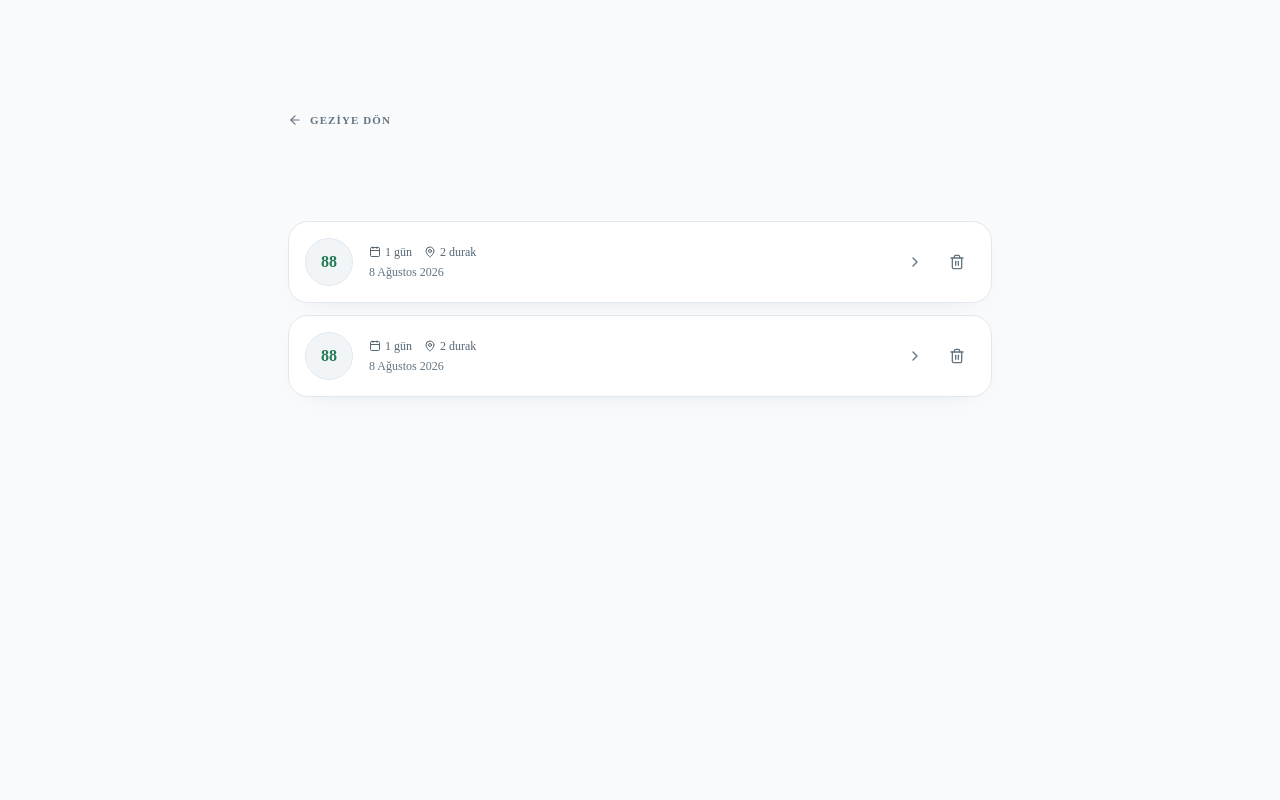
ItineraryHistoryPage › requires confirmation before deleting, then removes only that row locally
Click the 1st button named "İtinerary'i sil": [957, 262] box [939,244,975,280]
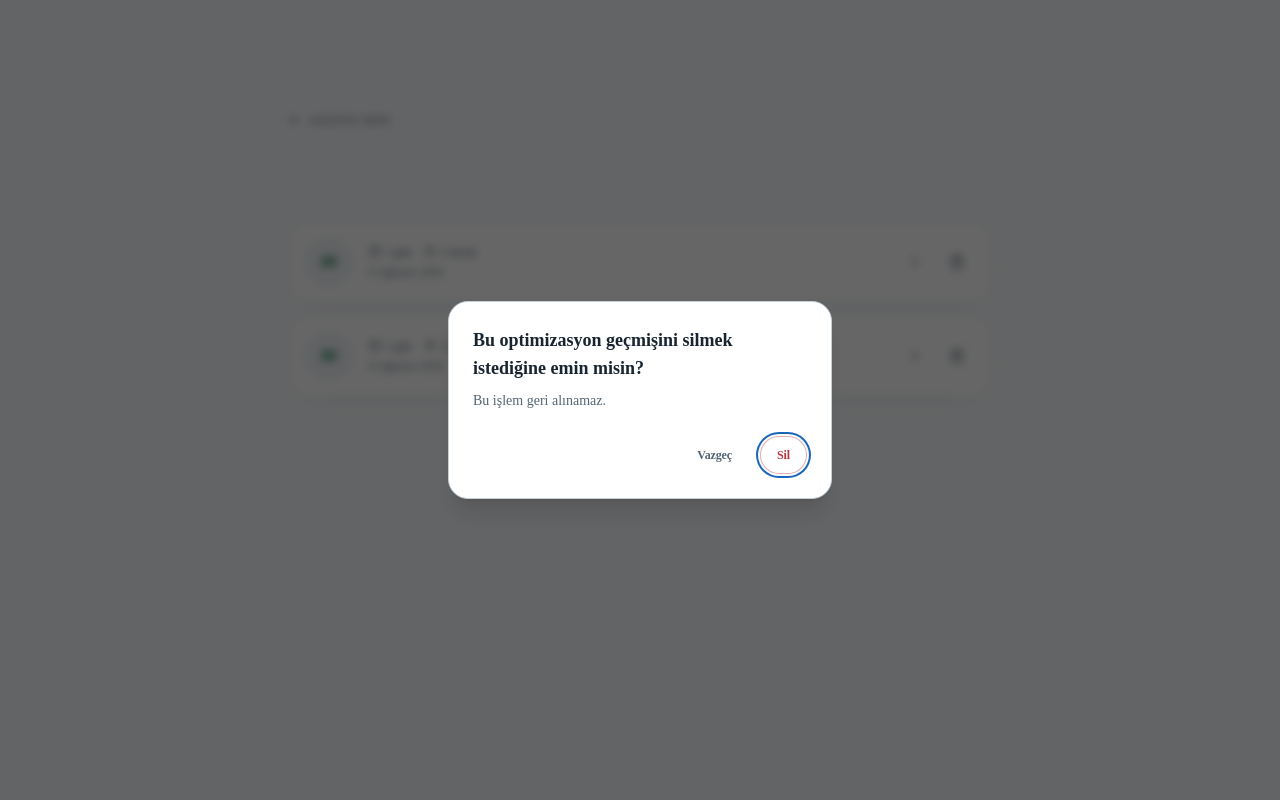
Check: the heading "Bu optimizasyon geçmişini silmek istediğine emin misin?" is shown, box [473,330,732,378]
Click the button "Sil": [784, 455] box [760,436,807,474]
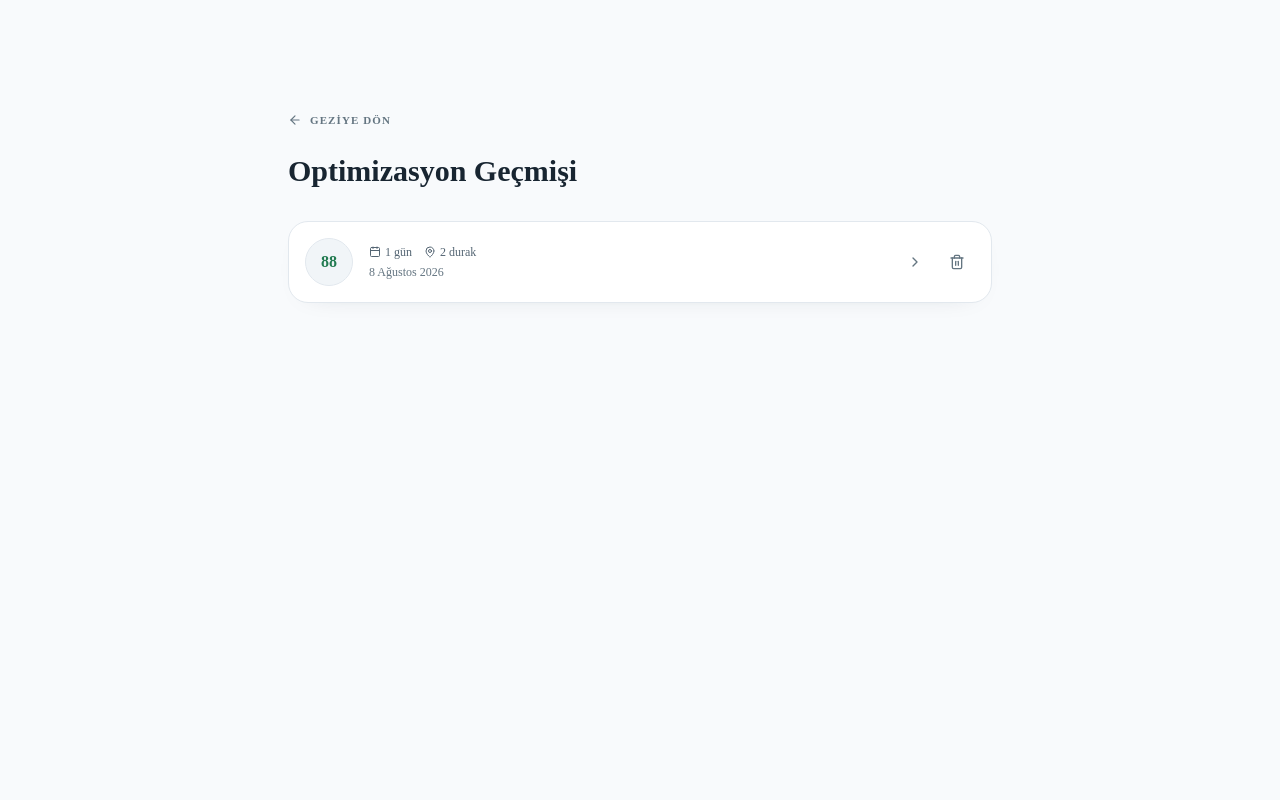
Check: the number of buttons named "İtinerary'i sil" is 1, box [939,244,975,280]
